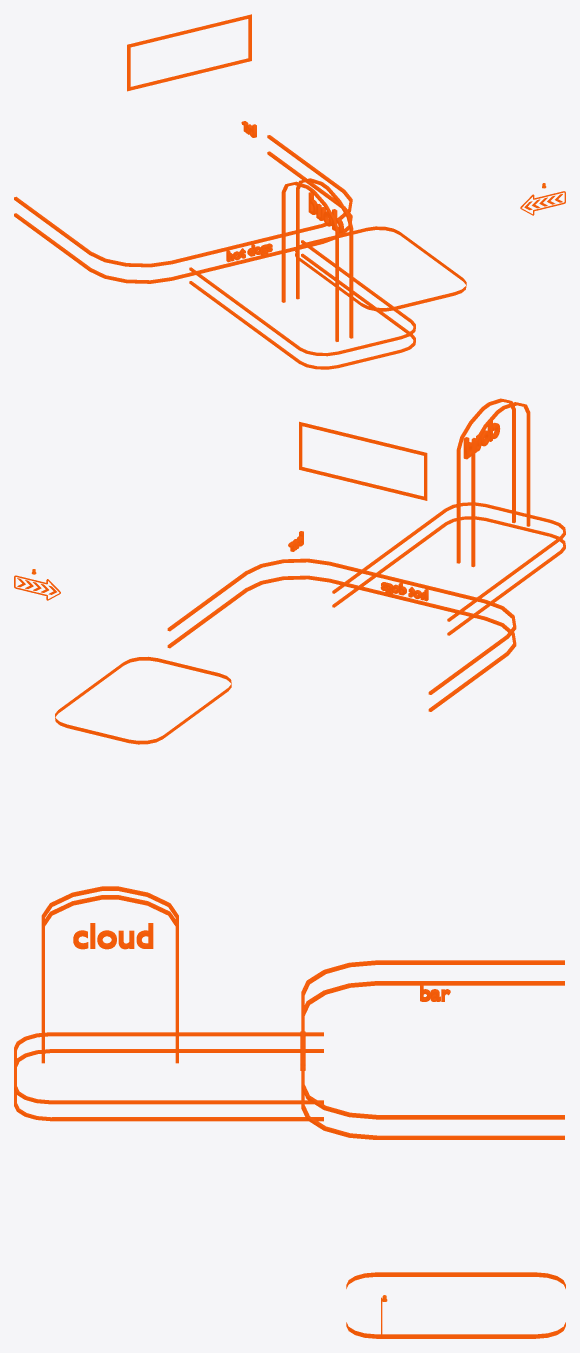
File: OrangeNeon-transformed.glb
3 renders of one model, top to bottom at view 1: azimuth 30°, elevation 25°; view 2: azimuth 150°, elevation 25°; view 3: azimuth 270°, elevation 25°, orthographic. The views are drawn at different scales.
Visible parts, largest first — view 1: Building1.005, Pump.001, Sign.001, Plane.012, Platform.002, Text.001, Text.004; view 2: Building1.005, Pump.001, Sign.001, Platform.002, Plane.012, Text.001, Text.004; view 3: Building1.005, Pump.001, Sign.001, Platform.002, Text.001.
Part boxes in pixels (<box>): Building1.005: <box>14,135,352,283</box>; Pump.001: <box>189,240,415,369</box>; Sign.001: <box>281,178,353,341</box>; Plane.012: <box>127,14,251,91</box>; Platform.002: <box>295,226,466,311</box>; Text.001: <box>308,192,343,233</box>; Text.004: <box>226,243,272,262</box>; Building1.005: <box>167,558,516,711</box>; Pump.001: <box>332,502,565,635</box>; Sign.001: <box>456,398,530,567</box>; Platform.002: <box>55,656,231,744</box>; Plane.012: <box>299,421,427,500</box>; Text.001: <box>463,421,500,459</box>; Text.004: <box>380,582,428,601</box>; Building1.005: <box>301,960,564,1139</box>; Pump.001: <box>14,1032,323,1121</box>; Sign.001: <box>41,886,178,1063</box>; Platform.002: <box>346,1272,565,1338</box>; Text.001: <box>73,923,153,949</box>.
Size of the model in its own units: 7.57 by 4.52 by 6.05.
